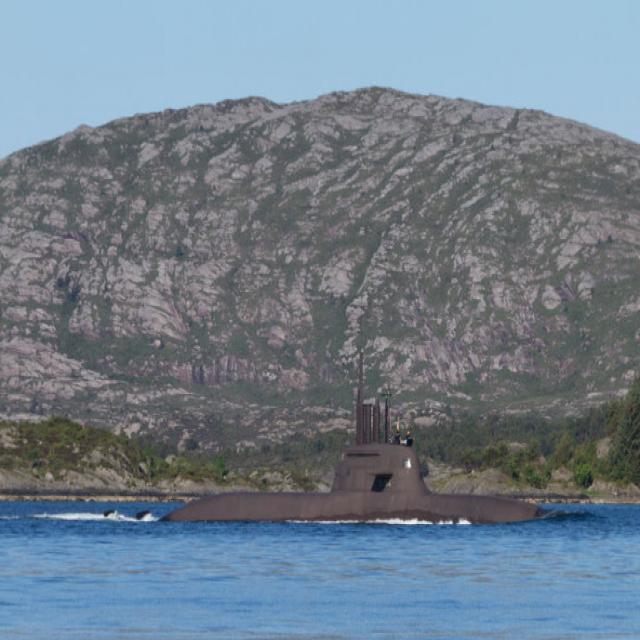submarine: (178, 353, 548, 528)
